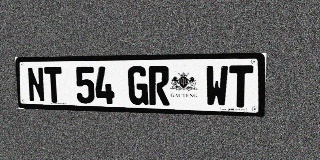4: (94, 66, 114, 104)
5: (75, 67, 95, 104)
G: (127, 66, 148, 105)
N: (27, 67, 45, 102)
R: (148, 66, 170, 106)
T: (229, 65, 253, 108), (44, 67, 63, 103)
W: (205, 65, 228, 107)
